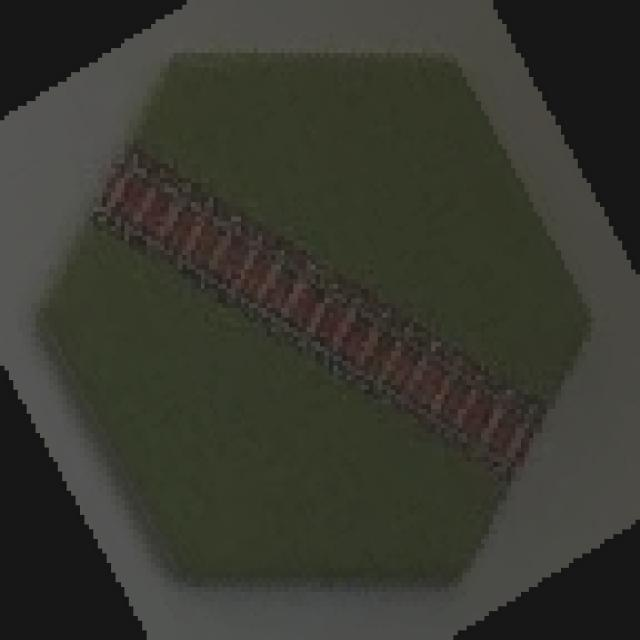3_2: (39, 54, 586, 590)
